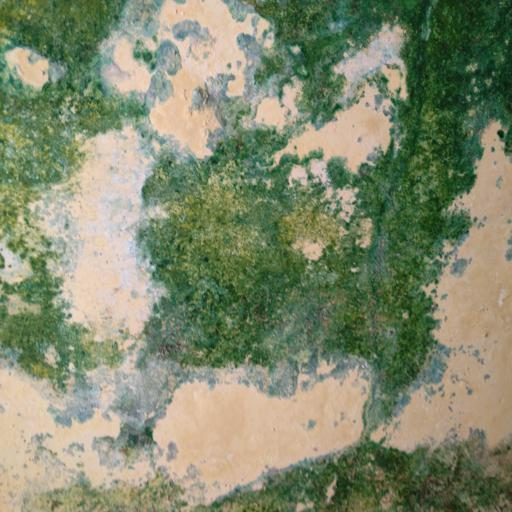algae: (7, 8, 512, 512)
